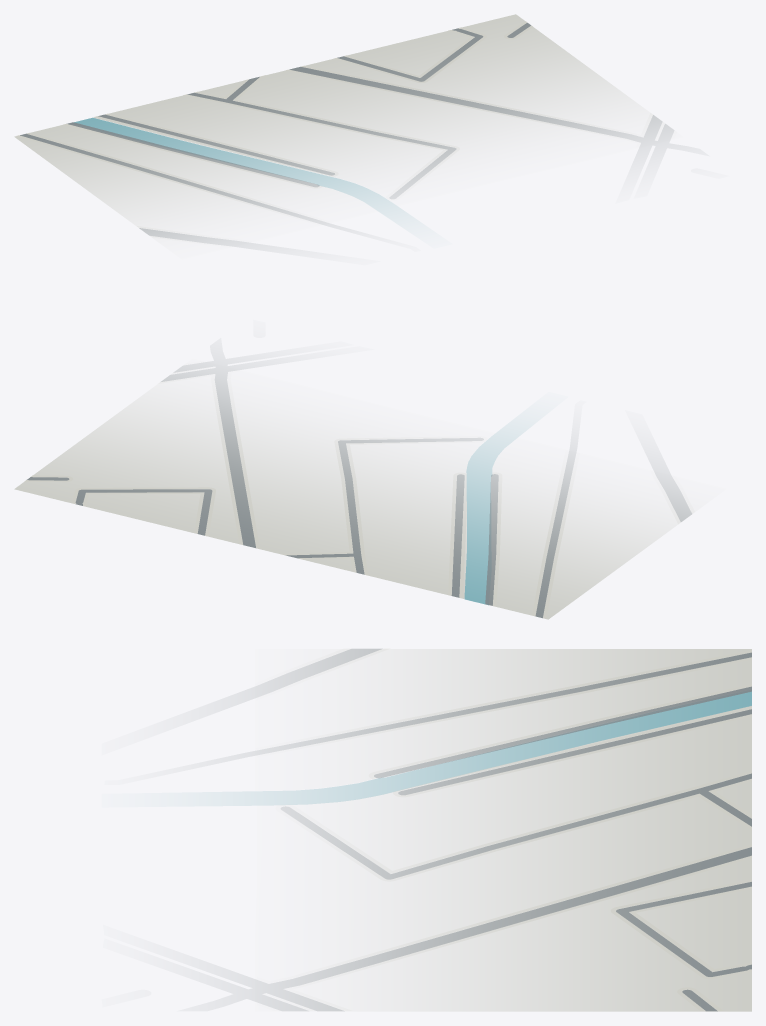
3 renders of one model, top to bottom at view 1: azimuth 30°, elevation 25°; view 2: azimuth 150°, elevation 25°; view 3: azimuth 270°, elevation 25°, orthographic. The views are drawn at different scales.
Visible parts, largest first — view 1: city; view 2: city; view 3: city.
Boxes of the visible parts, <box> form: city: <box>14,14,681,249</box>; city: <box>14,354,694,619</box>; city: <box>227,648,751,1011</box>.
Size of the model in its own units: 500 by 0.4 by 430.
